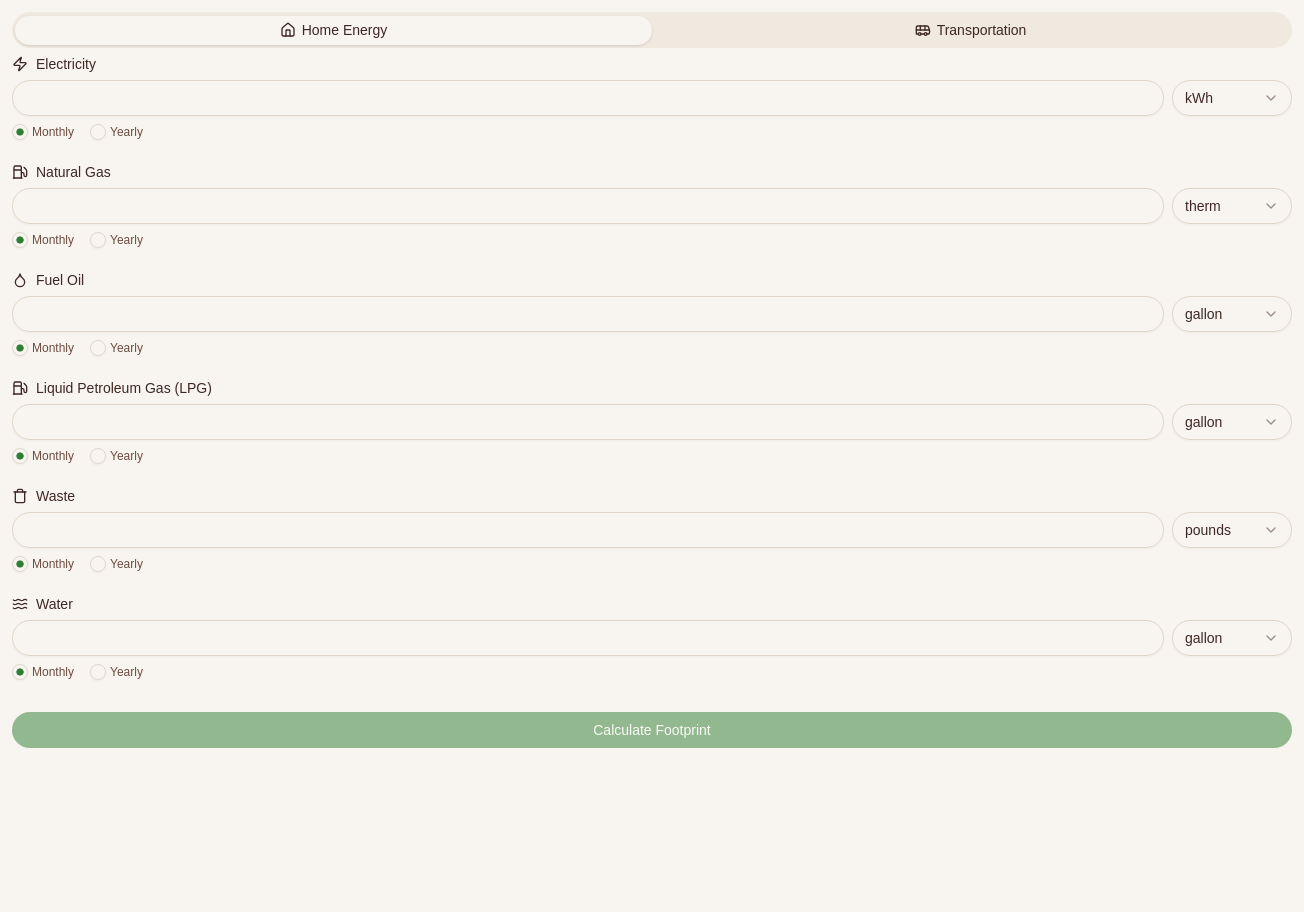
Test: Submit button disabled/enabled states
Expected: the button "Calculate Footprint" is disabled, [12,712,1292,748]
Type "100" into the number field labelled "Electricity" at (588, 98), box [12,80,1164,116]
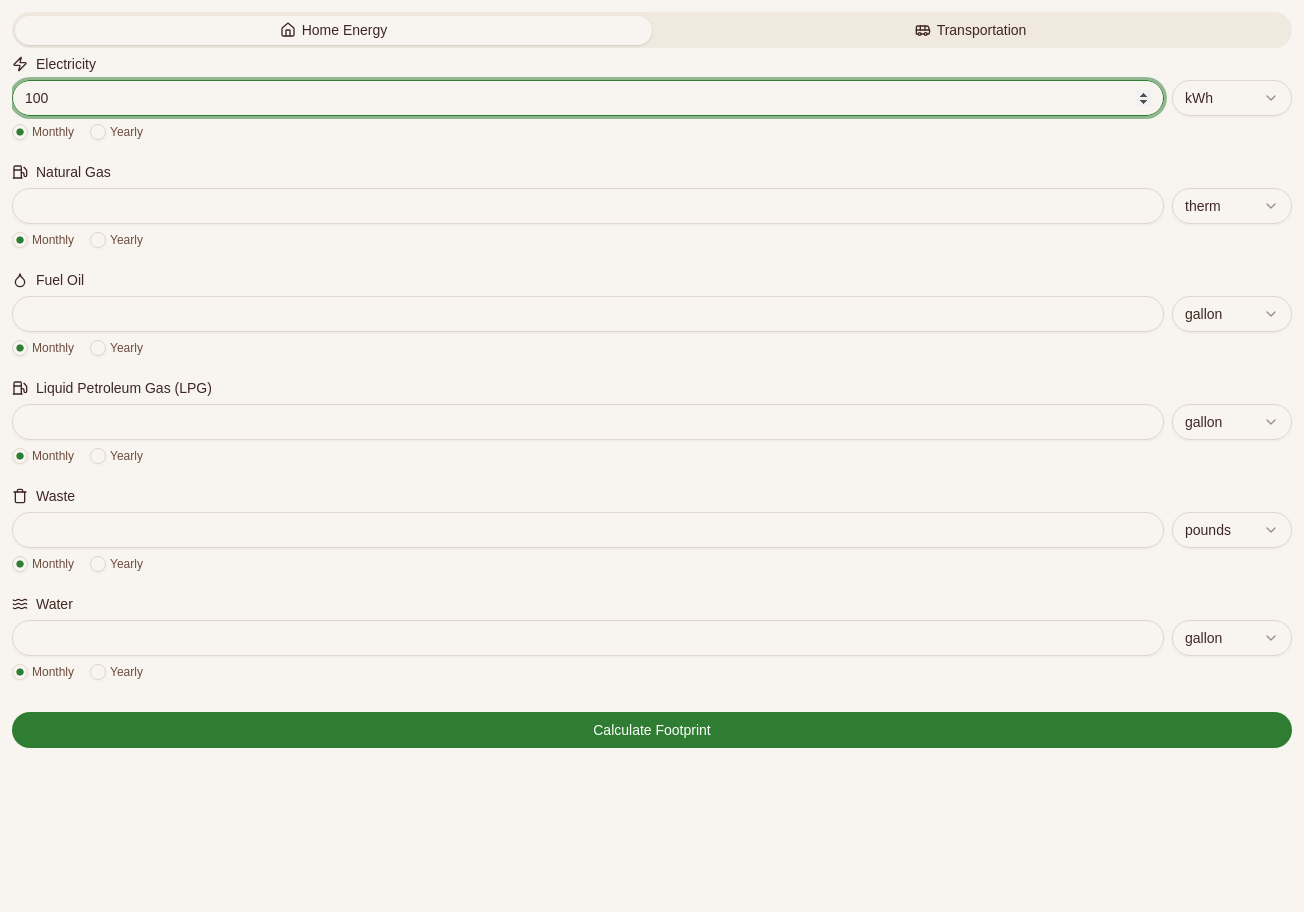
Now the button "Calculate Footprint" is enabled, box [12,712,1292,748]
